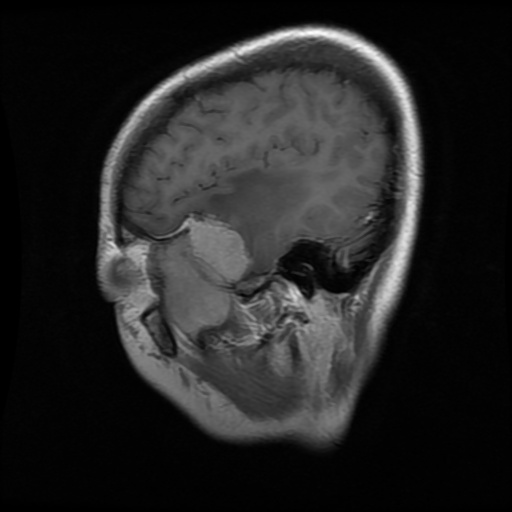meningioma: (184, 215, 252, 283)
